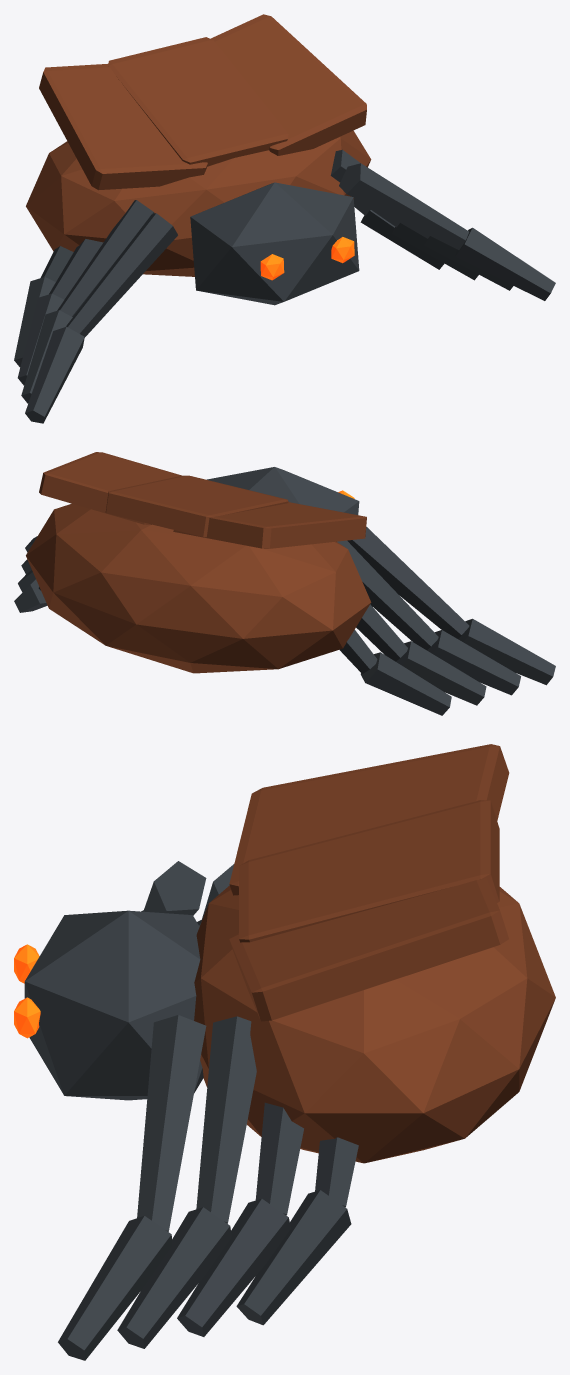
Rendered from rust-eater-v01.glb.
3 views of the same model, one above another, from view 1: azimuth 30°, elevation 25°; view 2: azimuth 150°, elevation 25°; view 3: azimuth 270°, elevation 25° (orthographic). The views are drawn at different scales.
Visible parts, largest first — view 1: abdomen, head, shell_plate_1, shell_plate_0, shell_plate_2, leg_-1_3_upper, leg_1_3_upper, leg_1_3_lower, leg_-1_2_upper, leg_-1_3_lower, leg_-1_2_lower, leg_-1_1_upper (+8 smaller); view 2: abdomen, shell_plate_1, shell_plate_0, shell_plate_2, leg_-1_3_upper, head, leg_-1_2_upper, leg_-1_3_lower, leg_-1_0_lower, leg_-1_2_lower, leg_-1_1_lower, leg_-1_1_upper (+2 smaller); view 3: abdomen, head, shell_plate_1, shell_plate_2, shell_plate_0, leg_1_3_upper, leg_1_2_upper, leg_1_3_lower, leg_1_2_lower, leg_1_1_lower, leg_1_0_lower, leg_1_1_upper (+3 smaller).
Part boxes in pixels (x1,y1,x2,y2): abdomen: (26, 130, 371, 276); head: (190, 182, 359, 305); shell_plate_1: (108, 37, 288, 166); shell_plate_0: (39, 64, 207, 190); shell_plate_2: (211, 14, 366, 155); leg_-1_3_upper: (66, 213, 177, 337); leg_1_3_upper: (339, 163, 469, 249); leg_1_3_lower: (455, 227, 555, 300); leg_-1_2_upper: (57, 200, 154, 316); leg_-1_3_lower: (25, 326, 84, 423); leg_-1_2_lower: (21, 310, 72, 403); leg_-1_1_upper: (49, 239, 103, 299); abdomen: (26, 503, 371, 673); shell_plate_1: (105, 475, 288, 537); shell_plate_0: (173, 502, 366, 548); shell_plate_2: (39, 452, 181, 524); leg_-1_3_upper: (347, 527, 469, 638); head: (207, 467, 359, 514); leg_-1_2_upper: (337, 540, 438, 650); leg_-1_3_lower: (458, 618, 555, 685); leg_-1_0_lower: (360, 652, 451, 715); leg_-1_2_lower: (427, 630, 520, 695); leg_-1_1_lower: (396, 641, 486, 705); leg_-1_1_upper: (356, 604, 407, 661); abdomen: (194, 885, 555, 1163); head: (24, 910, 203, 1100); shell_plate_1: (239, 800, 499, 942); shell_plate_2: (229, 878, 508, 1021); shell_plate_0: (229, 744, 509, 895); leg_1_3_upper: (137, 1015, 206, 1231); leg_1_2_upper: (196, 1016, 256, 1223); leg_1_3_lower: (58, 1216, 172, 1360); leg_1_2_lower: (117, 1207, 231, 1348); leg_1_1_lower: (177, 1198, 290, 1336); leg_1_0_lower: (236, 1190, 351, 1325); leg_1_1_upper: (255, 1102, 303, 1215).
Bounding box in the file's own units: 5.4 × 2.14 × 3.11.
